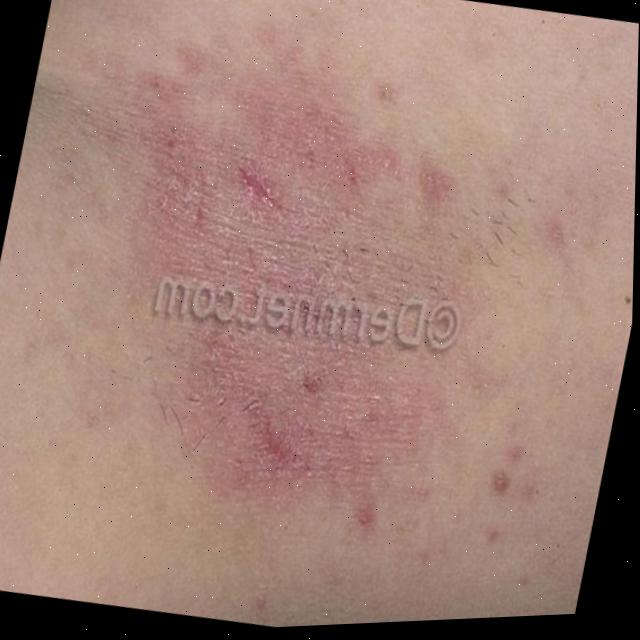Eczema: (127, 72, 525, 526)
